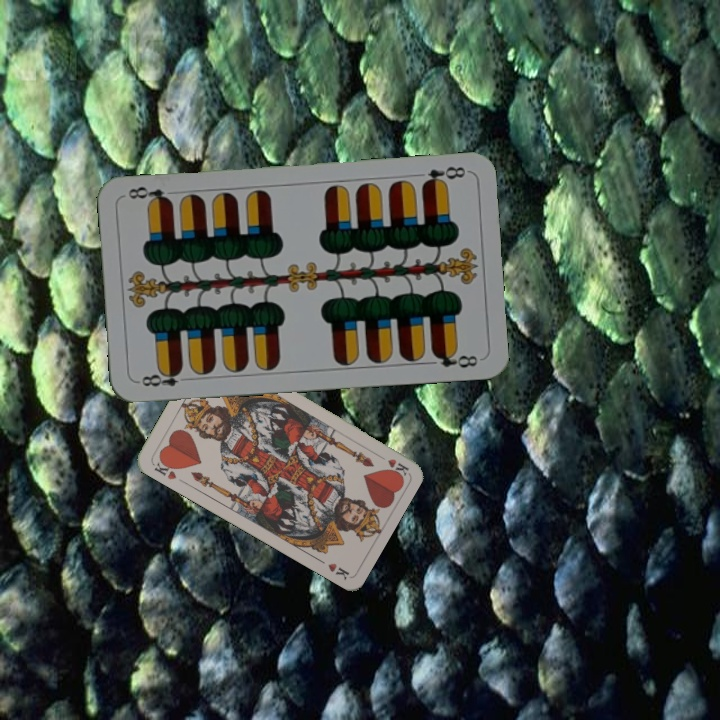E8: (134, 365, 193, 389), (417, 162, 468, 189)
HK: (372, 449, 411, 478), (149, 455, 179, 482)
